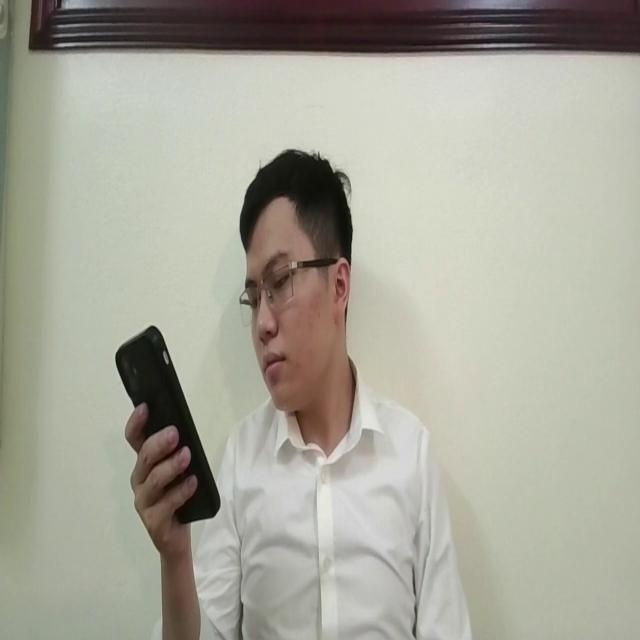phone: (110, 322, 224, 526)
student: (126, 146, 472, 640)
